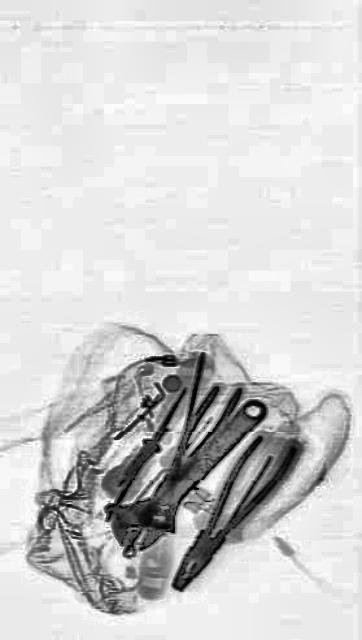Pliers: (161, 404, 300, 612)
Wrench: (109, 370, 275, 576)
